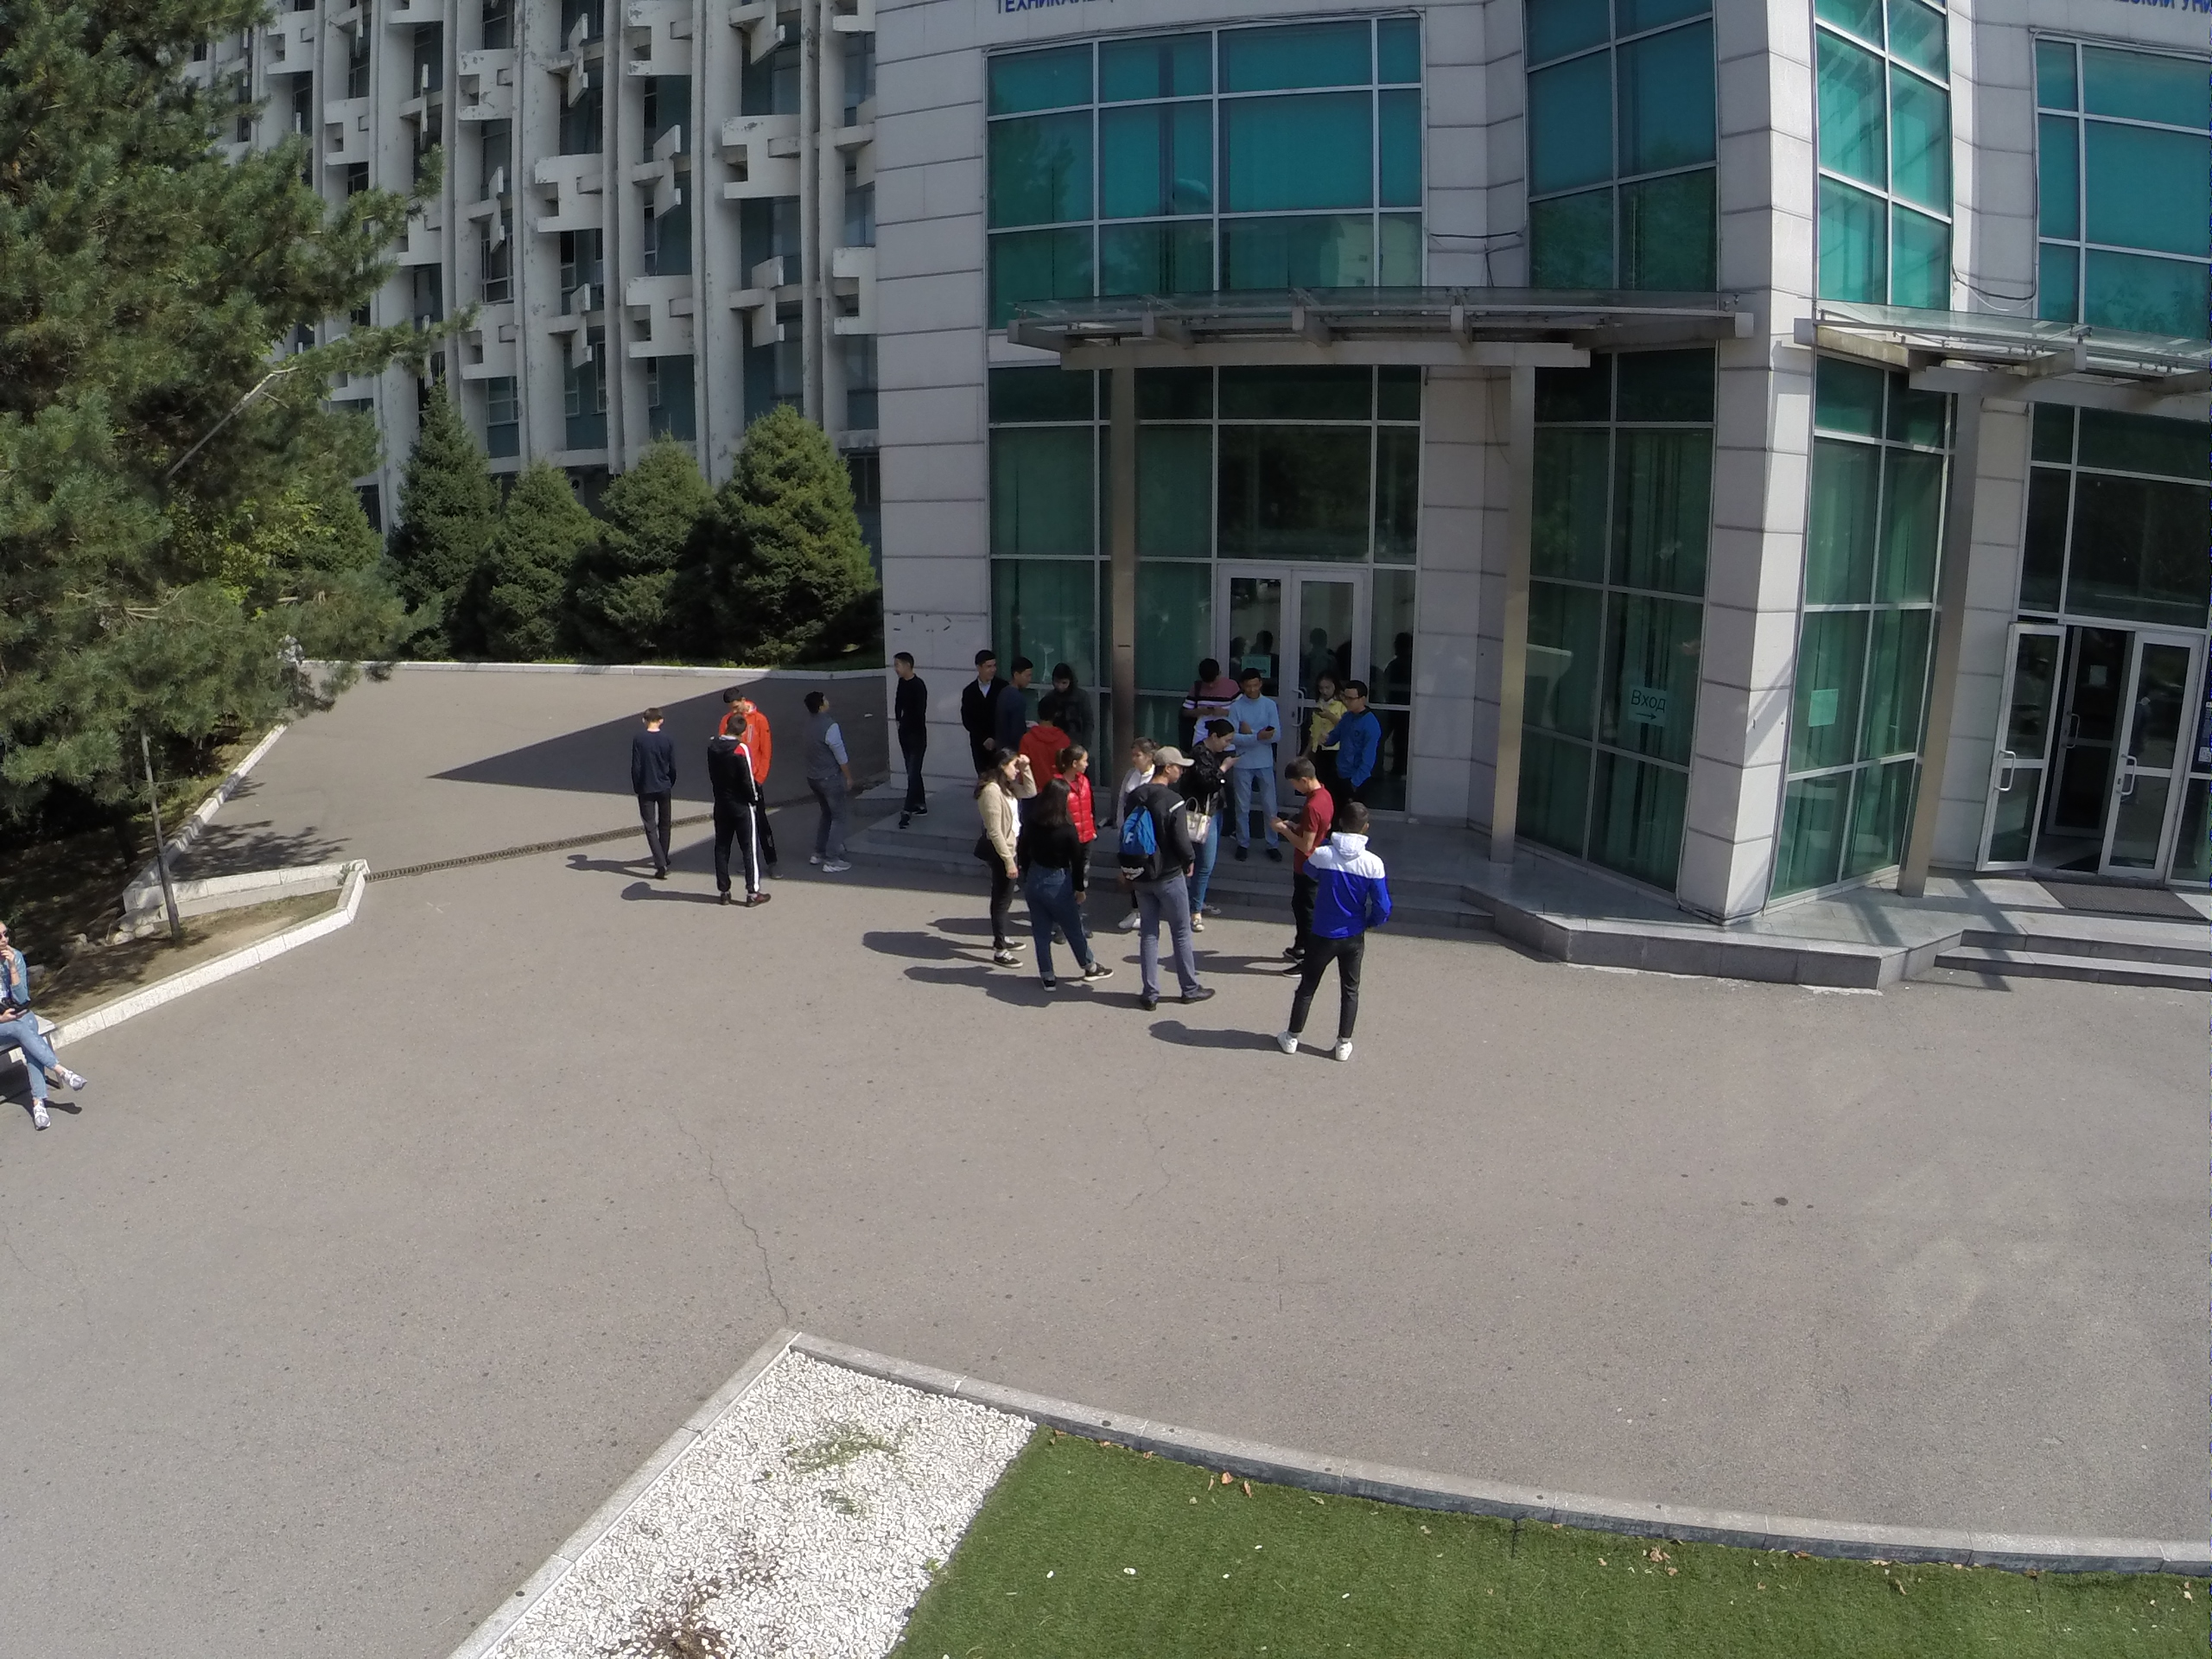person: (1267, 799, 1384, 1068), (1118, 744, 1213, 1021), (1017, 778, 1109, 994), (1270, 741, 1331, 974), (976, 750, 1038, 976), (1186, 717, 1243, 937), (1234, 671, 1290, 868), (708, 721, 765, 906), (803, 687, 851, 875), (629, 698, 674, 887), (889, 650, 928, 829), (1329, 676, 1379, 804), (965, 648, 1011, 772), (1182, 656, 1242, 740), (992, 655, 1045, 747), (1022, 694, 1076, 768), (1039, 659, 1092, 734), (1077, 743, 1097, 880), (1314, 670, 1342, 747)
